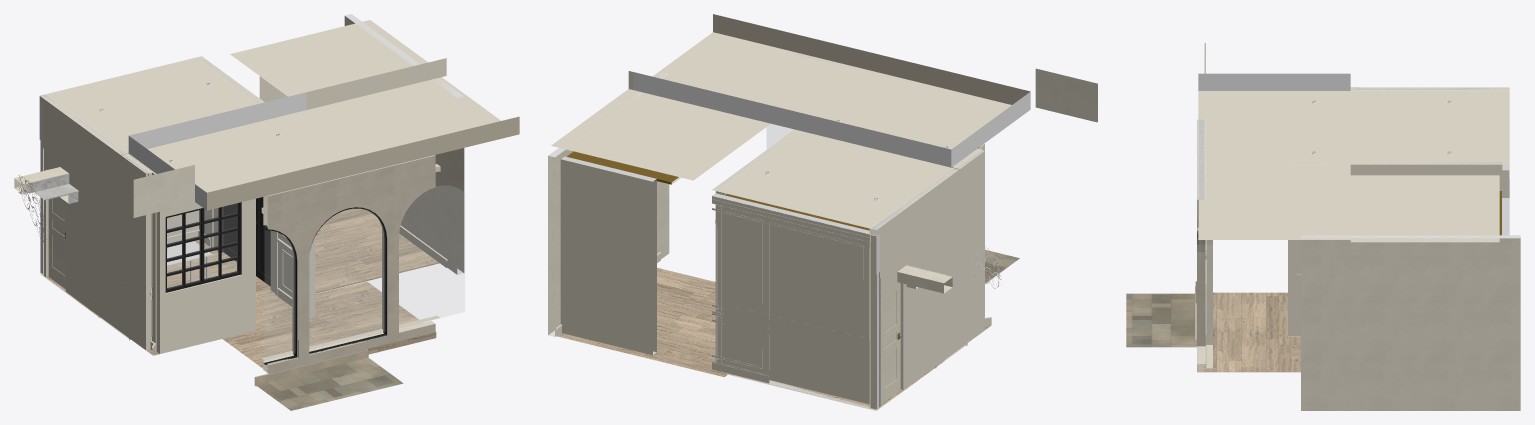
Rendered from office-west-93ce05aabfdb.glb.
3 renders of one model, left to right at view 1: azimuth 30°, elevation 25°; view 2: azimuth 150°, elevation 25°; view 3: azimuth 270°, elevation 25°, orthographic. The views are drawn at different scales.
Parts seen in each view (by area): view 1: office-west-look-dbd60ee5c3733ed6, office-west-6a051330000fbca1, office-west-look-c9e78b9ec1bb39cd, office-west-look-2575515a05775d9e, office-west-2575515a05775d9e, office-west-look-c02a36d0521470a9, office-west-a822d30aa9e2c55a, office-west-look-5cbcc744e6f960f3, office-west-look-c374268555806af8, office-west-look-3b0077416469e01b, office-west-look-6a1144f4e43410bb, office-west-dbd60ee5c3733ed6 (+20 smaller); view 2: office-west-look-dbd60ee5c3733ed6, office-west-19647d6da46c2b80, office-west-6a051330000fbca1, office-west-look-19647d6da46c2b80, office-west-2575515a05775d9e, office-west-look-2575515a05775d9e, office-west-look-3b0077416469e01b, office-west-look-6a1144f4e43410bb, office-west-look-34525a54e63b733b, office-west-dbd60ee5c3733ed6, office-west-80d276f58a4dc5cb, office-west-72f8f5982ac3dc36 (+9 smaller); view 3: office-west-look-6a1144f4e43410bb, office-west-look-dbd60ee5c3733ed6, office-west-2575515a05775d9e, office-west-look-2575515a05775d9e, office-west-look-c374268555806af8, office-west-dbd60ee5c3733ed6, office-west-look-982408871810a50e, office-west-72f8f5982ac3dc36, office-west-look-c9e78b9ec1bb39cd, office-west-0811b6b476584948, office-west-look-e54cb06e326b7f4f, office-west-6a051330000fbca1 (+2 smaller).
Boxes of the visible parts, <box> form: office-west-look-dbd60ee5c3733ed6: <box>128,77,519,210</box>; office-west-6a051330000fbca1: <box>39,94,156,351</box>; office-west-look-c9e78b9ec1bb39cd: <box>263,155,435,372</box>; office-west-look-2575515a05775d9e: <box>230,20,446,109</box>; office-west-2575515a05775d9e: <box>40,56,282,155</box>; office-west-look-c02a36d0521470a9: <box>309,209,385,349</box>; office-west-a822d30aa9e2c55a: <box>156,139,307,353</box>; office-west-look-5cbcc744e6f960f3: <box>399,186,464,327</box>; office-west-look-c374268555806af8: <box>223,281,436,370</box>; office-west-look-3b0077416469e01b: <box>315,208,439,293</box>; office-west-look-6a1144f4e43410bb: <box>344,14,464,274</box>; office-west-dbd60ee5c3733ed6: <box>128,116,314,173</box>; office-west-look-dbd60ee5c3733ed6: <box>633,14,1030,166</box>; office-west-19647d6da46c2b80: <box>712,193,869,407</box>; office-west-6a051330000fbca1: <box>869,146,984,408</box>; office-west-look-19647d6da46c2b80: <box>560,156,656,355</box>; office-west-2575515a05775d9e: <box>712,129,958,228</box>; office-west-look-2575515a05775d9e: <box>551,71,770,180</box>; office-west-look-3b0077416469e01b: <box>557,267,727,377</box>; office-west-look-6a1144f4e43410bb: <box>548,72,669,336</box>; office-west-look-34525a54e63b733b: <box>1035,68,1097,122</box>; office-west-dbd60ee5c3733ed6: <box>794,105,983,167</box>; office-west-80d276f58a4dc5cb: <box>883,283,900,402</box>; office-west-72f8f5982ac3dc36: <box>715,141,784,363</box>; office-west-look-6a1144f4e43410bb: <box>1301,235,1520,410</box>; office-west-look-dbd60ee5c3733ed6: <box>1198,73,1350,239</box>; office-west-2575515a05775d9e: <box>1350,87,1509,164</box>; office-west-look-2575515a05775d9e: <box>1350,175,1499,242</box>; office-west-look-c374268555806af8: <box>1197,292,1300,372</box>; office-west-dbd60ee5c3733ed6: <box>1288,90,1350,164</box>; office-west-look-982408871810a50e: <box>1126,293,1196,347</box>; office-west-72f8f5982ac3dc36: <box>1288,162,1502,336</box>; office-west-look-c9e78b9ec1bb39cd: <box>1197,119,1205,371</box>; office-west-0811b6b476584948: <box>1350,164,1502,171</box>; office-west-look-e54cb06e326b7f4f: <box>1206,240,1212,368</box>; office-west-6a051330000fbca1: <box>1350,87,1509,197</box>.
Bounding box in the file's own units: 6.87 × 3.92 × 6.21.
Materials: 30 (9 with a texture image).
